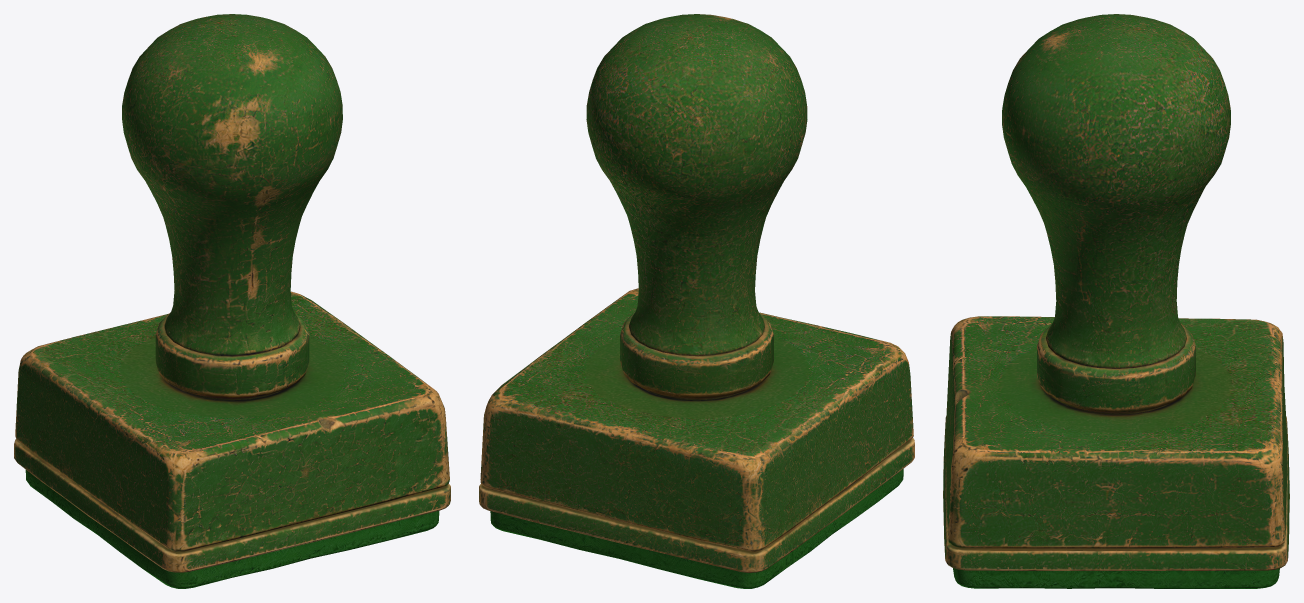
The model's file is Approve_stamp.fbx.
3 renders of one model, left to right at view 1: azimuth 30°, elevation 25°; view 2: azimuth 150°, elevation 25°; view 3: azimuth 270°, elevation 25°, orthographic. The views are drawn at different scales.
Visible parts, largest first — view 1: tripo_744b33df_37ce_4851_9be8_a8bc22c067b7; view 2: tripo_744b33df_37ce_4851_9be8_a8bc22c067b7; view 3: tripo_744b33df_37ce_4851_9be8_a8bc22c067b7.
Boxes of the visible parts, box(x1,y1,x2,y2) form: tripo_744b33df_37ce_4851_9be8_a8bc22c067b7: box(14, 14, 450, 588); tripo_744b33df_37ce_4851_9be8_a8bc22c067b7: box(479, 14, 914, 588); tripo_744b33df_37ce_4851_9be8_a8bc22c067b7: box(943, 14, 1289, 588).
Size of the model in its own units: 0.6392 by 0.9995 by 0.6392.
Materials: 1 (1 with a texture image).
